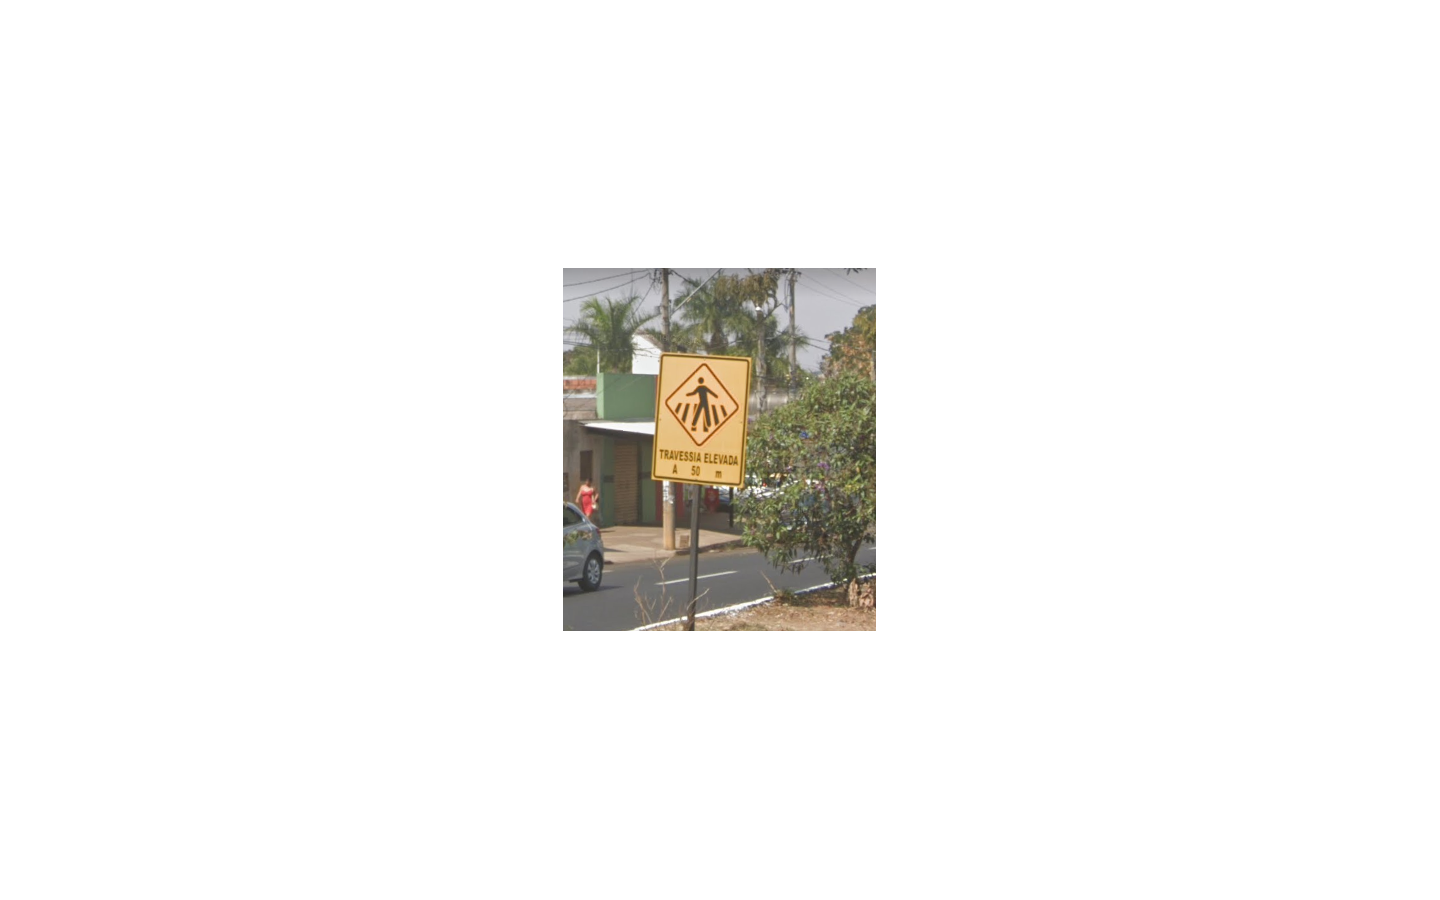t50m: (652, 353, 751, 488)
